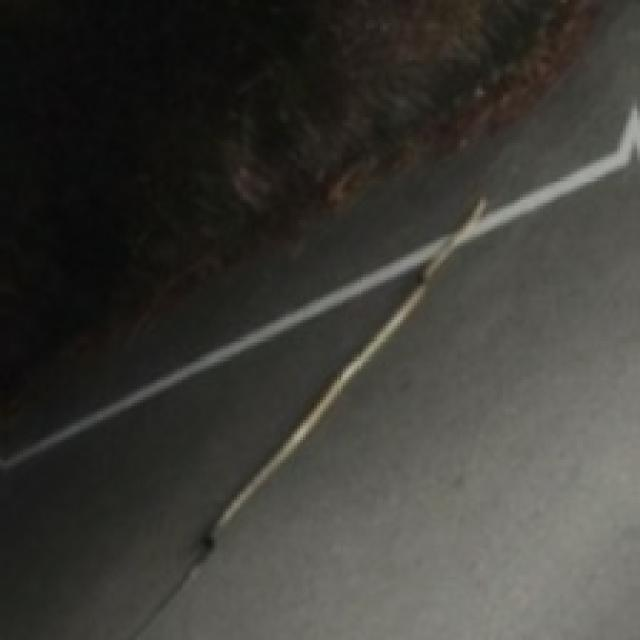king cobra: (0, 0, 594, 446)
